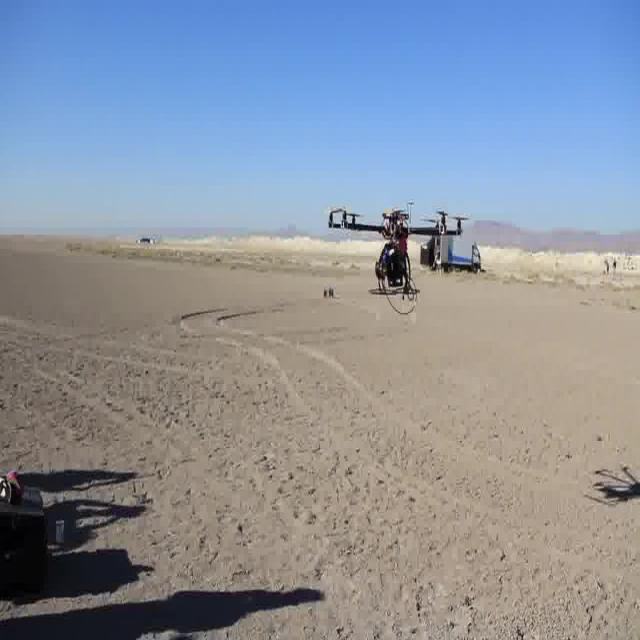drones: (319, 186, 473, 321)
